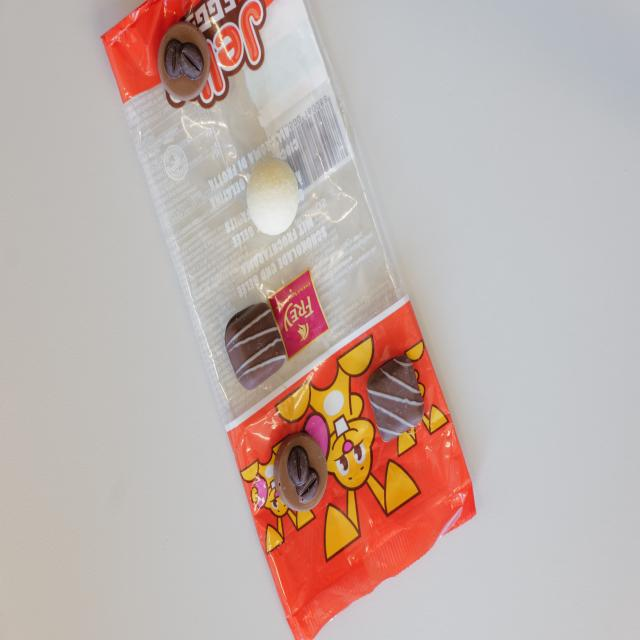Arabia: (278, 431, 328, 512), (160, 21, 209, 100)
Comtesse: (248, 154, 298, 236)
Stracciatella: (227, 299, 286, 389), (367, 354, 428, 439)
